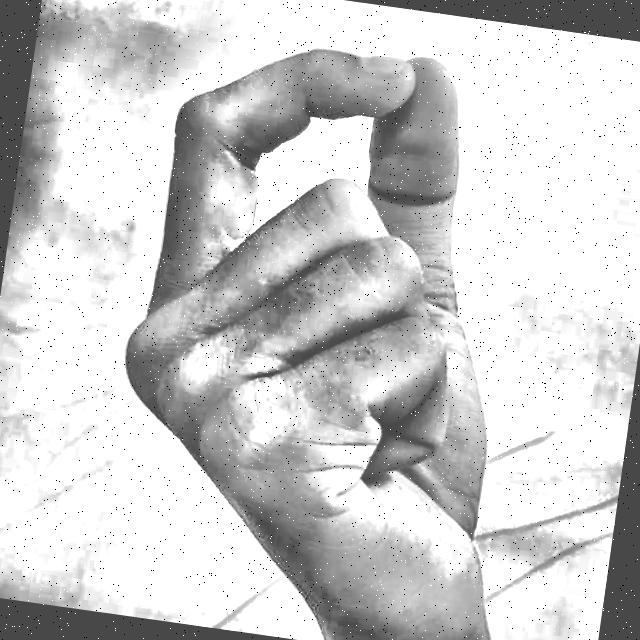Gha: (40, 0, 615, 640)
